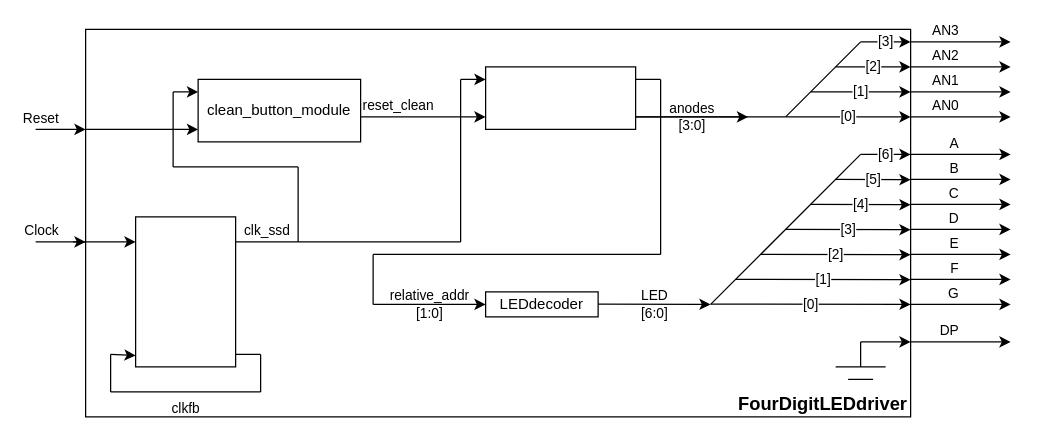
Some shapes in this 1043 by 439 pixel diagram are drawn without their labels. The centre of each missing label's shape, as x and y in pixels:
"digit_driver_module" goes at [560,97].
"MMCME2" goes at [185,291].
